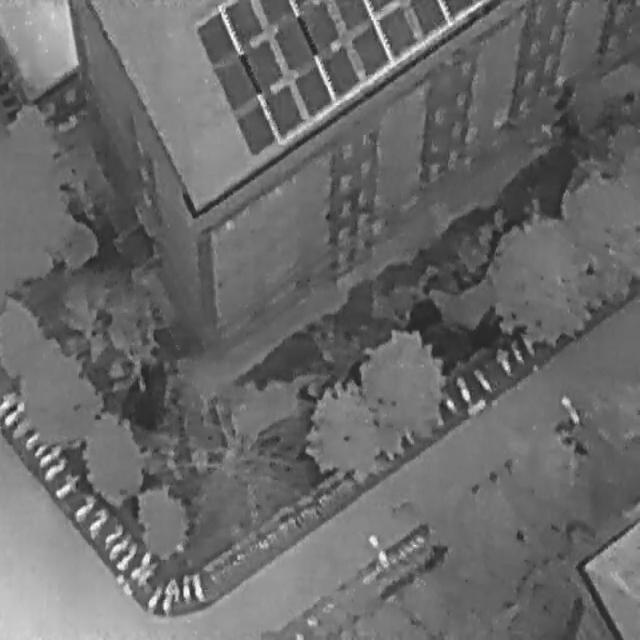Bicycle: (68, 489, 98, 525), (83, 504, 111, 540), (115, 535, 140, 573), (105, 528, 132, 562), (437, 386, 462, 420), (41, 455, 69, 484), (35, 442, 64, 470), (53, 470, 80, 500), (451, 371, 474, 405), (493, 345, 516, 379), (99, 518, 125, 548), (144, 581, 166, 614), (5, 398, 28, 428), (187, 568, 207, 602), (507, 338, 527, 368), (471, 365, 491, 394), (23, 425, 47, 449), (29, 436, 54, 459), (162, 576, 175, 612), (181, 572, 189, 602)
